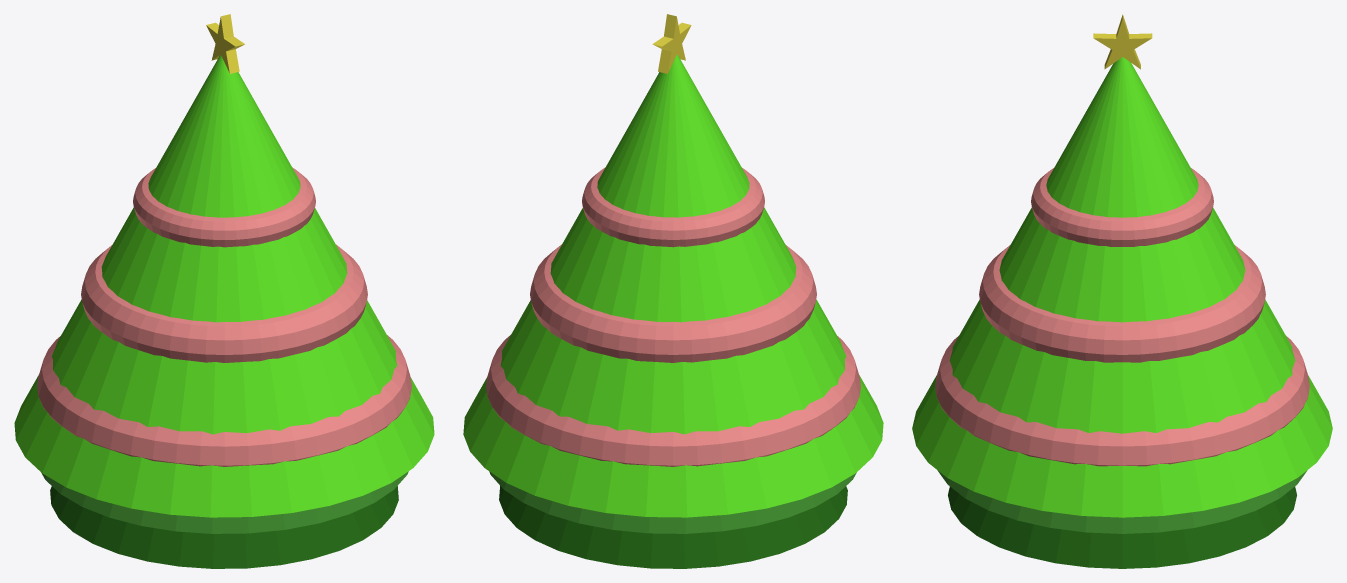
The model's file is ChrimTree.fbx.
3 views of the same model, side by side, from view 1: azimuth 30°, elevation 25°; view 2: azimuth 150°, elevation 25°; view 3: azimuth 270°, elevation 25° (orthographic).
Visible parts, largest first — view 1: Cone.002, Torus.002, Torus, Cone, Torus.001, Cone.001, Circle; view 2: Cone.002, Torus.002, Torus, Cone, Torus.001, Cone.001, Circle; view 3: Cone.002, Torus.002, Torus, Cone, Torus.001, Cone.001, Circle.
Part boxes in pixels (box(x1,y1,x2,y2)): Cone.002: box(14, 55, 434, 517); Torus.002: box(37, 335, 411, 466); Torus: box(81, 244, 367, 362); Cone: box(50, 486, 398, 568); Torus.001: box(133, 167, 315, 247); Cone.001: box(41, 471, 408, 533); Circle: box(206, 14, 244, 73); Cone.002: box(463, 55, 883, 517); Torus.002: box(486, 335, 860, 466); Torus: box(530, 244, 816, 362); Cone: box(499, 486, 847, 568); Torus.001: box(582, 167, 764, 247); Cone.001: box(489, 471, 856, 533); Circle: box(652, 14, 691, 73); Cone.002: box(912, 57, 1332, 517); Torus.002: box(935, 336, 1309, 466); Torus: box(979, 245, 1265, 362); Cone: box(948, 486, 1296, 568); Torus.001: box(1031, 168, 1213, 246); Cone.001: box(937, 470, 1307, 533); Circle: box(1093, 14, 1152, 69).
Bounding box in the file's own units: 1357 × 1706 × 1357.
